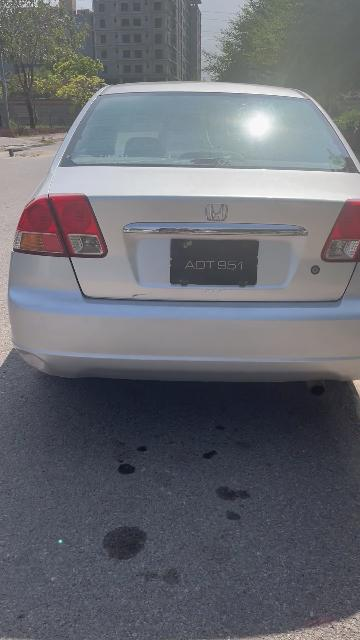plate: (172, 238, 256, 286)
